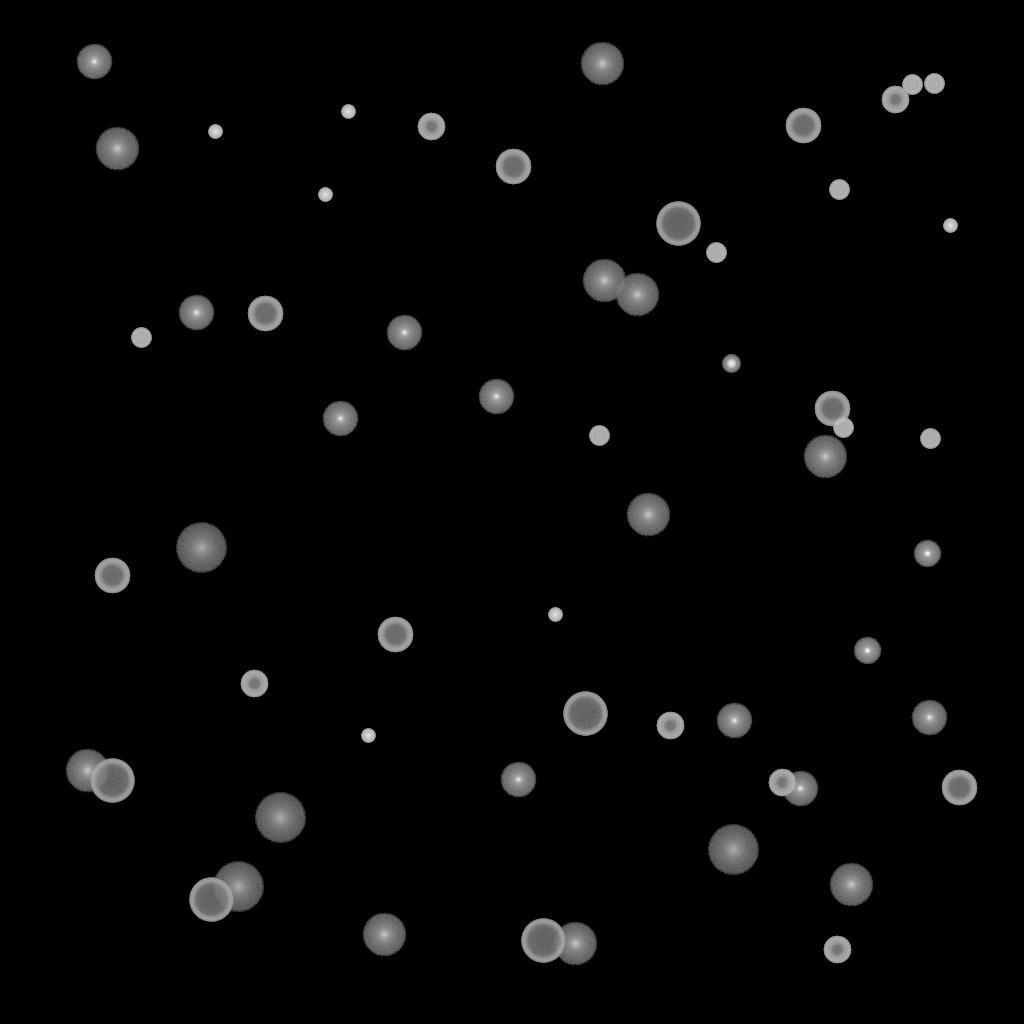depth:-10: (913, 540, 941, 568), (853, 637, 881, 665)
depth:-20: (722, 355, 740, 373)
depth:-30: (208, 125, 222, 139), (361, 729, 375, 743), (341, 105, 355, 119), (548, 608, 562, 622), (943, 219, 957, 233), (318, 188, 332, 202)
depth:-40: (833, 418, 853, 438), (589, 426, 609, 446), (706, 243, 726, 263), (920, 429, 940, 449), (829, 180, 849, 200), (131, 328, 151, 348), (902, 75, 922, 95), (924, 74, 944, 94)
depth:-50: (823, 936, 851, 964), (881, 86, 909, 114), (656, 712, 684, 740), (417, 113, 445, 141), (768, 769, 796, 797), (240, 670, 268, 698)
depth:-60: (495, 149, 531, 185), (941, 770, 977, 806), (94, 558, 130, 594), (785, 108, 821, 144), (247, 296, 283, 332), (814, 391, 850, 427), (377, 617, 413, 653)
depth:-70: (656, 202, 700, 246), (563, 692, 607, 736), (521, 919, 565, 963), (189, 878, 233, 922), (90, 759, 134, 803)
depth:0: (178, 295, 214, 331), (500, 762, 536, 798), (911, 700, 947, 736), (386, 315, 422, 351), (716, 703, 752, 739), (782, 771, 818, 807), (478, 379, 514, 415), (76, 44, 112, 80), (322, 401, 358, 437)
depth:10: (582, 259, 626, 303), (95, 127, 139, 171), (553, 922, 597, 966), (803, 435, 847, 479), (65, 749, 109, 793), (362, 913, 406, 957), (626, 493, 670, 537), (580, 42, 624, 86), (615, 273, 659, 317), (829, 863, 873, 907)
depth:20: (254, 793, 306, 843), (175, 523, 227, 573), (707, 825, 759, 875), (212, 862, 264, 912)
